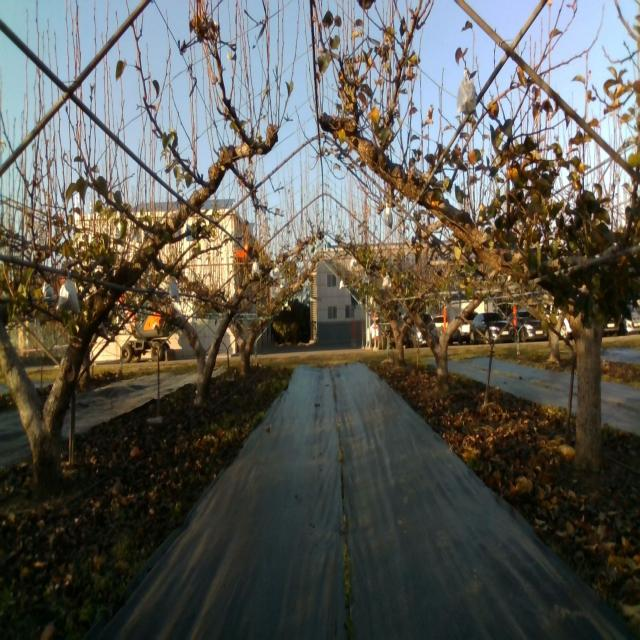pearbags: (458, 70, 478, 120), (56, 278, 80, 315), (169, 281, 179, 302)
